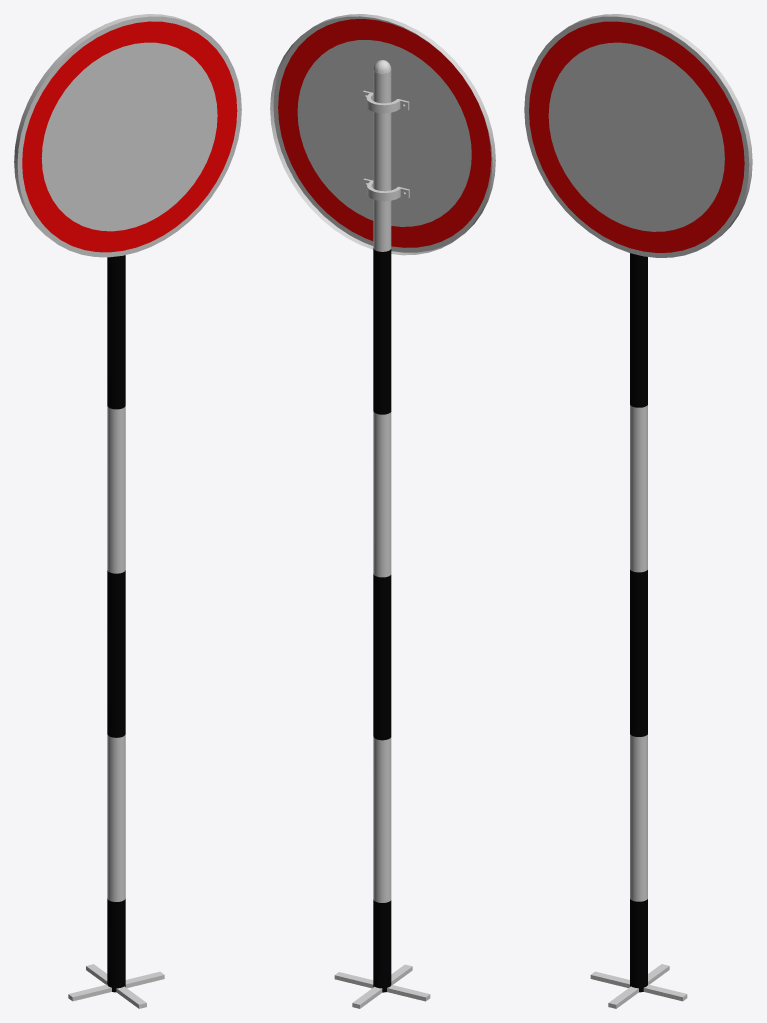
3 renders of one model, left to right at view 1: azimuth 30°, elevation 25°; view 2: azimuth 150°, elevation 25°; view 3: azimuth 330°, elevation 25°, orthographic.
Visible parts, largest first — view 1: Component_4 (×3), Component_2 (×6); view 2: Component_4 (×3), Component_2 (×8), Component_1; view 3: Component_4 (×3), Component_2 (×6).
Boxes of the visible parts, x1=… form: Component_4 (×3): x1=14, y1=14, x2=241, y2=257; Component_2 (×6): x1=68, y1=255, x2=164, y2=1008; Component_4 (×3): x1=270, y1=14, x2=495, y2=255; Component_2 (×8): x1=334, y1=70, x2=430, y2=1008; Component_1: x1=362, y1=90, x2=409, y2=113; Component_4 (×3): x1=524, y1=14, x2=752, y2=257; Component_2 (×6): x1=590, y1=253, x2=687, y2=1008.
Bounding box in the file's own units: 22.52 × 9.24 × 93.32.
